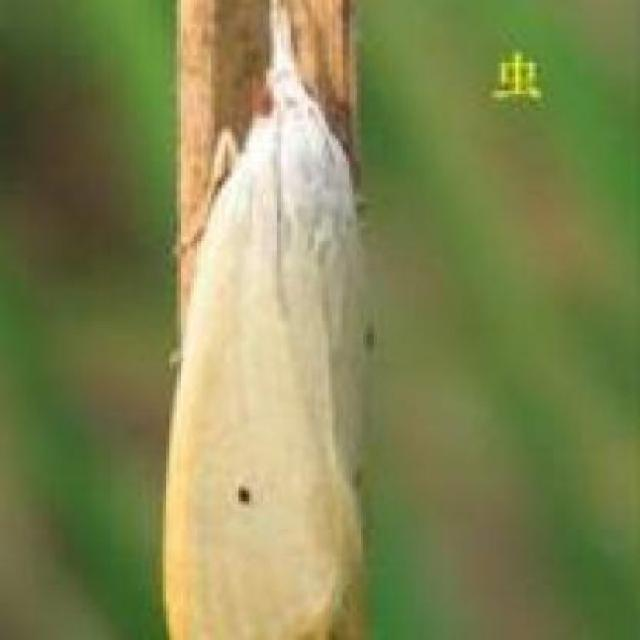stem-borer: (158, 0, 376, 640)
